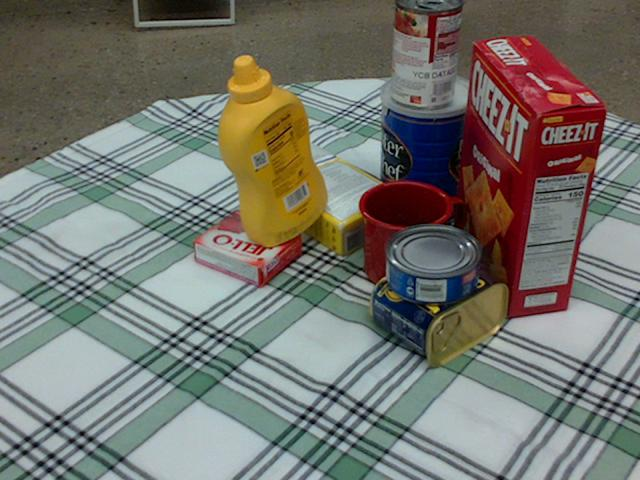cracker_box: (453, 36, 609, 314)
gelatin_box: (193, 211, 303, 288)
master_chef_can: (377, 71, 478, 227)
mug: (359, 180, 466, 292)
mustard_bottle: (218, 55, 326, 246)
potted_meat_can: (373, 245, 512, 363)
sugar_box: (240, 136, 403, 255)
tomato_soup_can: (391, 0, 463, 108)
tuna_fish_can: (385, 225, 481, 304)
